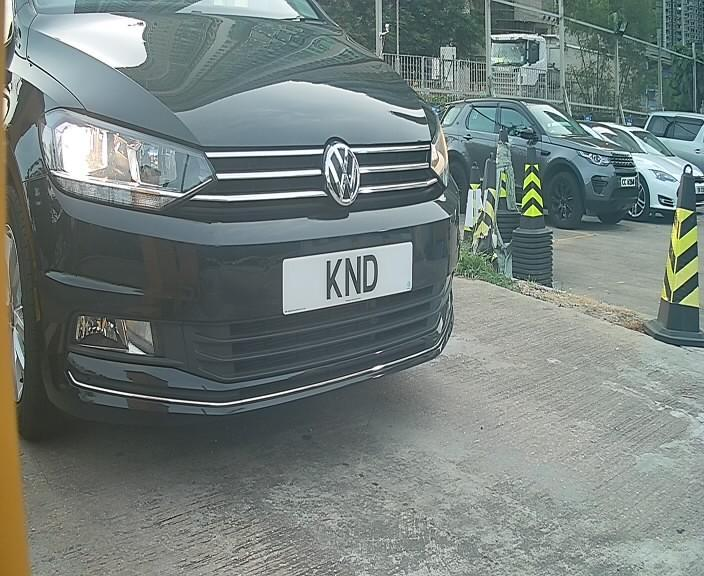privatecar: (1, 8, 522, 443)
